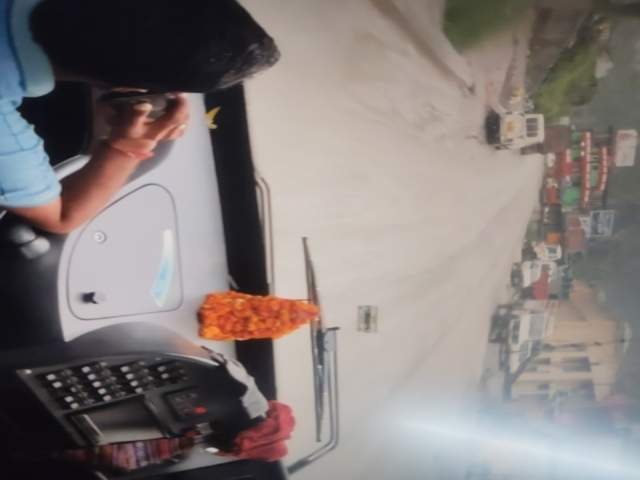pothole: (304, 311, 404, 391)
